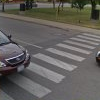crosswalk: (0, 32, 99, 100)
